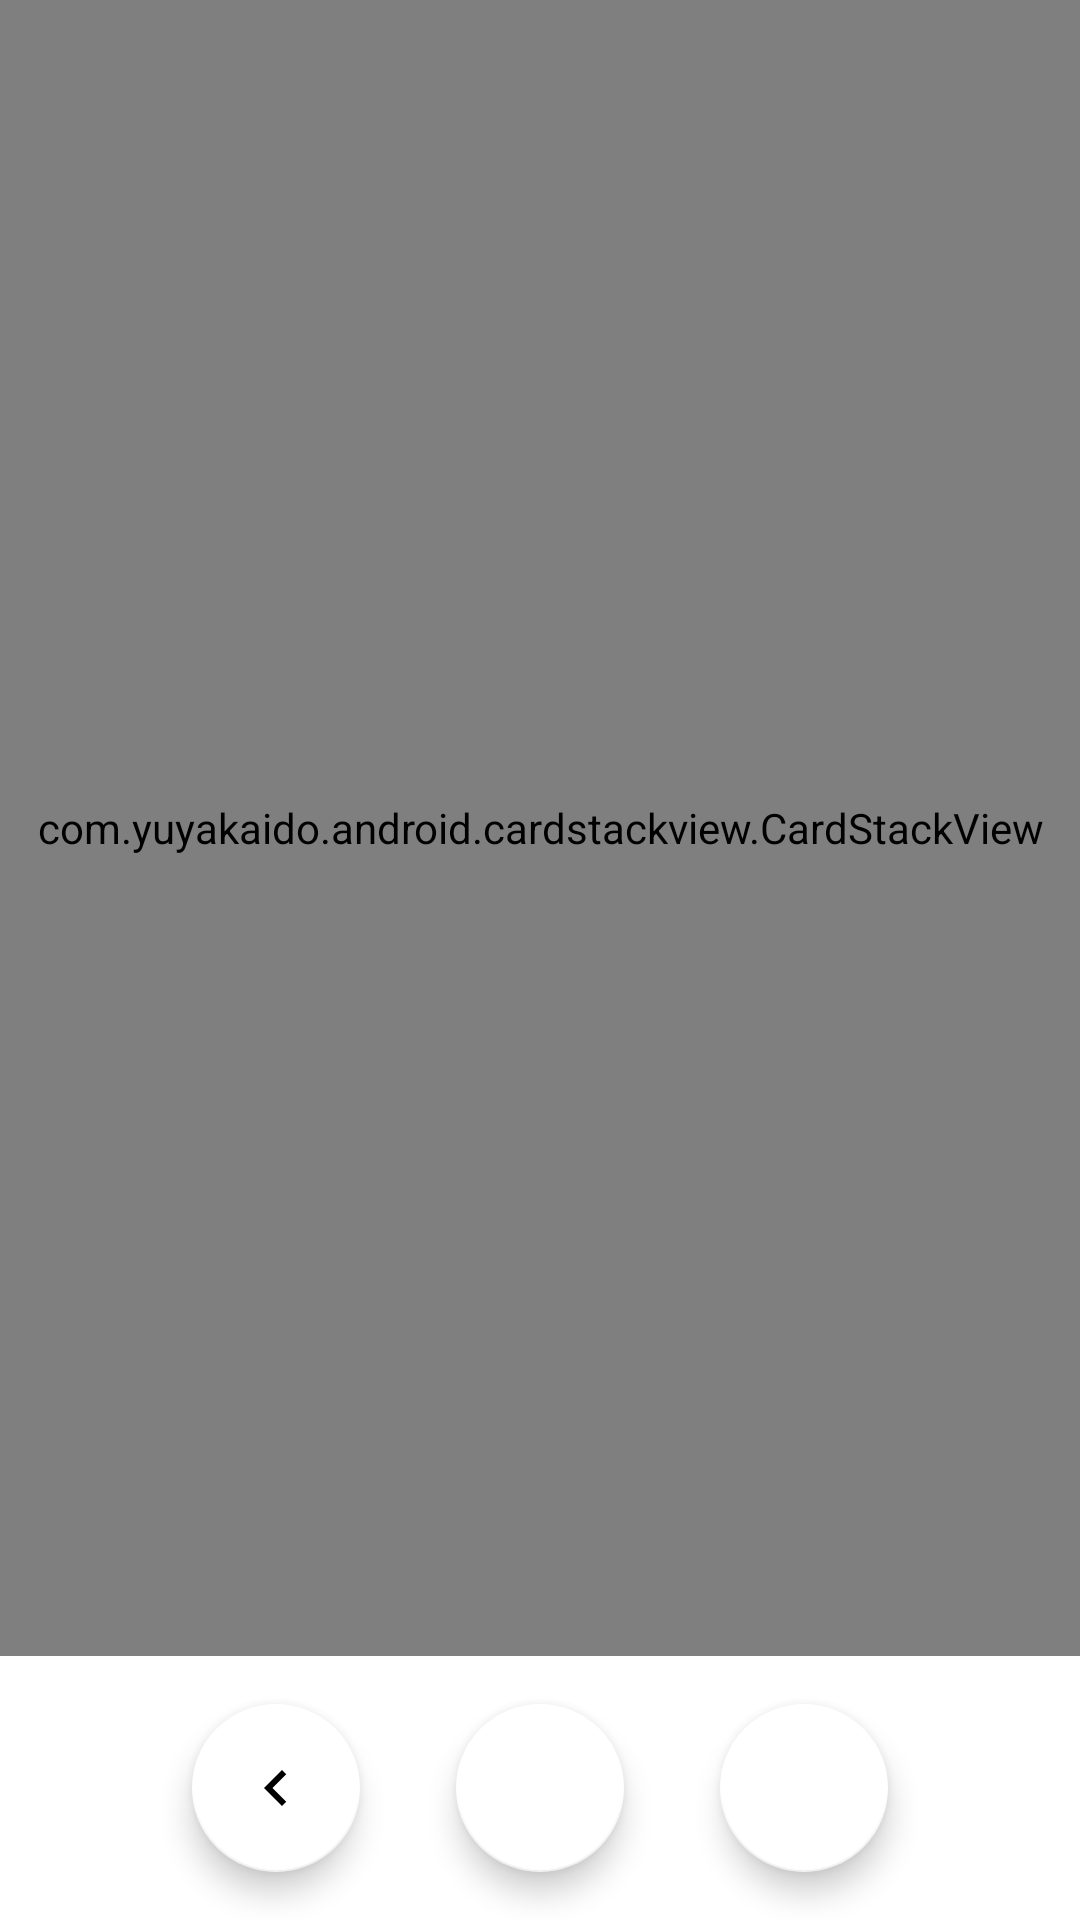

Icon bounding boxes for this 1080 × 1920 phone screenshot, format (x1, y1, x2, y2):
navigate before: (192, 1770, 357, 1872)
